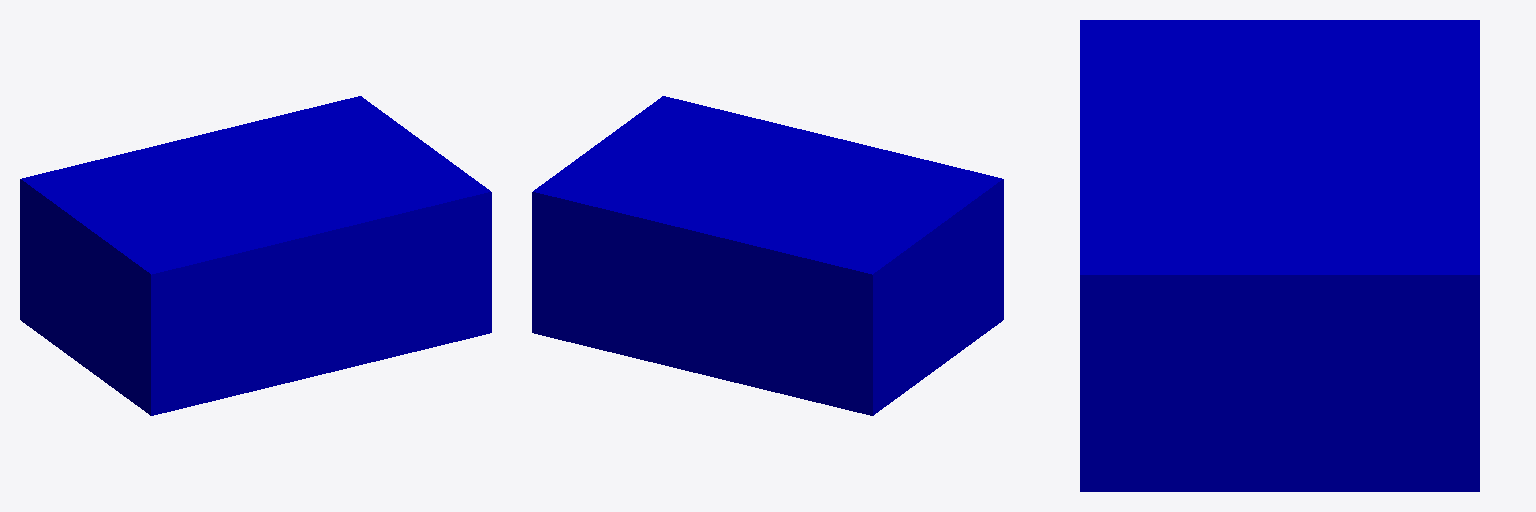
The robot description file, URDF, robot "mir100":
<?xml version="1.0"?>
<robot name="mir100">

  <!-- Material definition -->
  <material name="black">
    <color rgba="0 0 0 1"/>
  </material>

  <material name="white">
    <color rgba="1 1 1 1"/>
  </material>

  <material name="blue">
    <color rgba="0 0 0.8 1"/>
  </material>

  <material name="orange">
    <color rgba="1 0.5 0 1"/>
  </material>

  <!-- Base link -->
  <link name="base_link">
    <visual>
      <origin rpy="0 0 0" xyz="0 0 0.179"/>
      <geometry>
        <box size="0.9 0.6 0.358"/>
      </geometry>
      <material name="blue"/>
    </visual>
  </link>

</robot>

--- Render facts (derived) ---
Views: 3 orthographic renders of the robot side by side, from view 1: azimuth 30°, elevation 25°; view 2: azimuth 150°, elevation 25°; view 3: azimuth 270°, elevation 25°.
Model mir100 with 1 links and 0 joints (none), rooted at base_link, posed every joint at zero.
Links seen in each view (by area): view 1: base_link; view 2: base_link; view 3: base_link.
Boxes of the visible links, bbox=[...] form: base_link: bbox=[20, 96, 491, 415]; base_link: bbox=[532, 96, 1003, 415]; base_link: bbox=[1080, 20, 1479, 491].
Bounding box of the posed robot: 0.9 × 0.6 × 0.358 m (x, y, z).
Geometry: primitives only (box / cylinder / sphere), no mesh files.